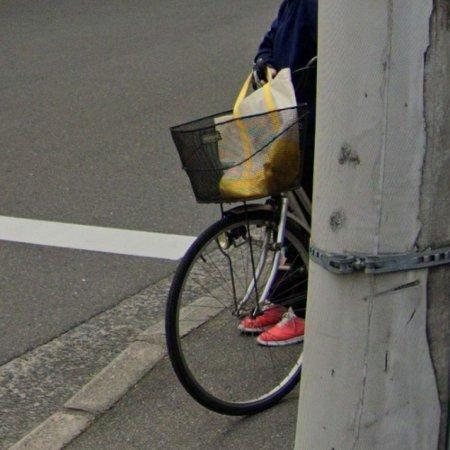bicycles: (167, 104, 311, 416)
